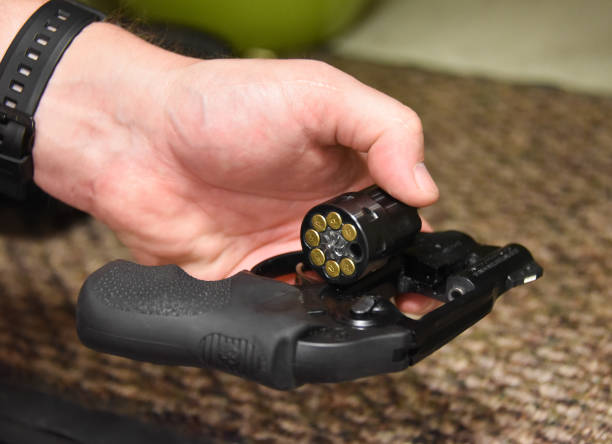pistol: (75, 198, 559, 397)
